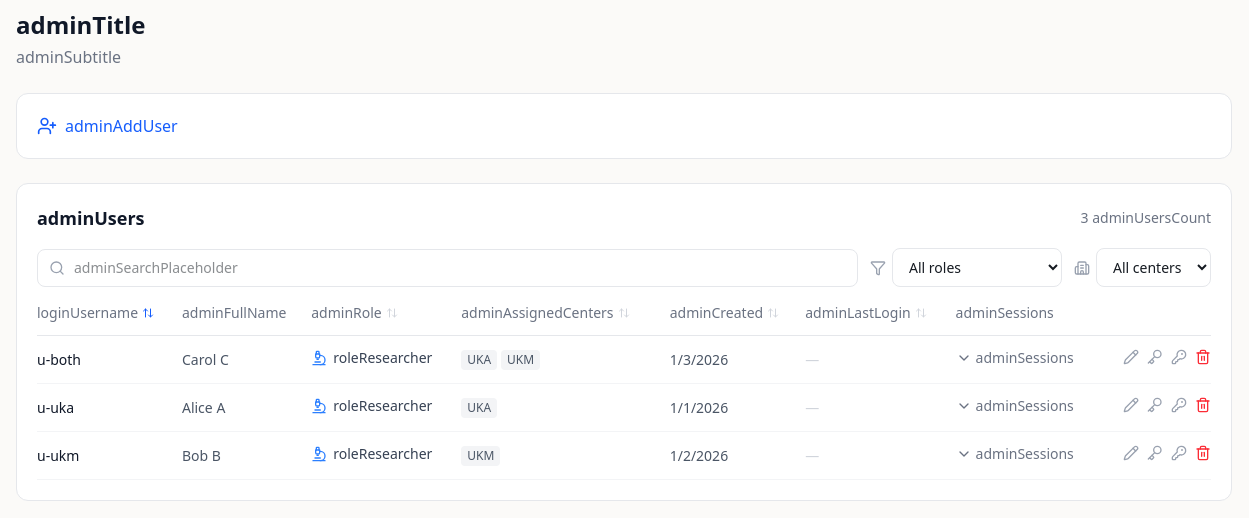
AdminPage center filter — locked-to-6-sites roster (VQA-01 / D-09) › narrows the user table to only users belonging to the selected center
Expected: the text "u-uka" is shown, [37,384,182,432]
Expected: the text "u-ukm" is shown, [37,432,182,480]
// Narrow to org-uka — u-uka and u-both remain, u-ukm drops.
Select "UKA" in the dropdown with test id "admin-center-filter" at (1154, 268), box [1096,248,1211,287]
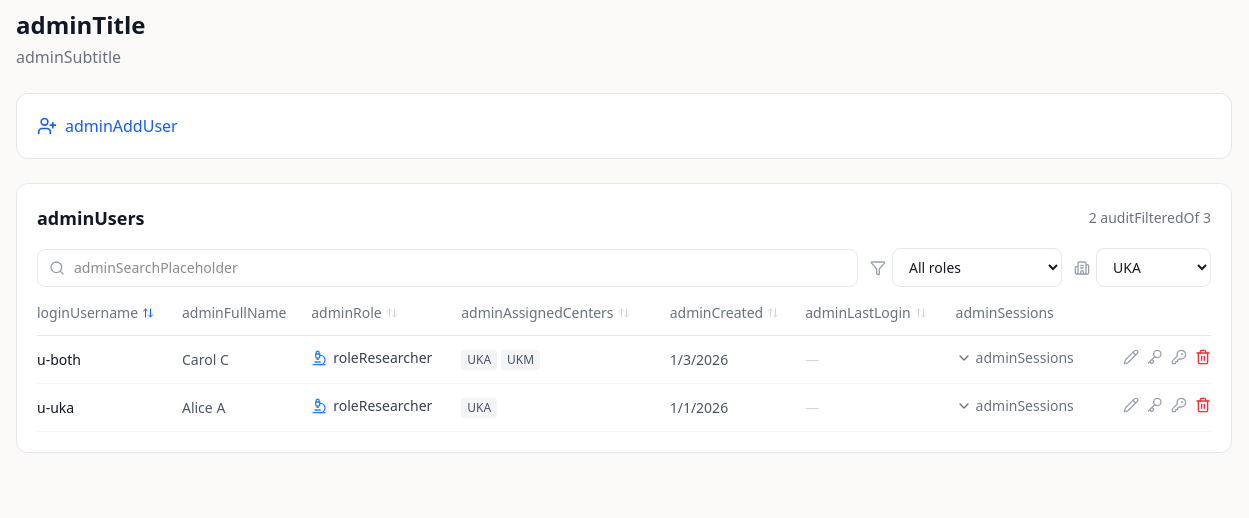
Expected: the text "u-uka" is shown, [37,384,182,432]
Expected: the text "u-ukm" is gone
// Narrow to org-ukm — u-ukm and u-both remain, u-uka drops.
Select "UKM" in the dropdown with test id "admin-center-filter" at (1154, 268), box [1096,248,1211,287]
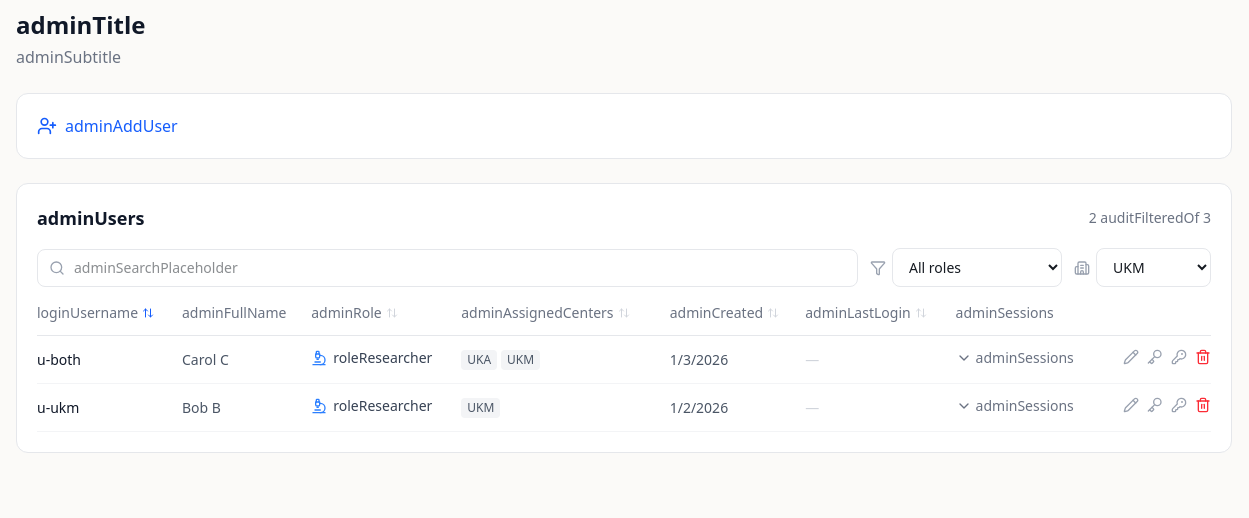
Expected: the text "u-both" is shown, [37,336,182,384]
Expected: the text "u-ukm" is shown, [37,384,182,432]
Expected: the text "u-uka" is gone
// Reset — all three visible again.
Select "All centers" in the dropdown with test id "admin-center-filter" at (1154, 268), box [1096,248,1211,287]
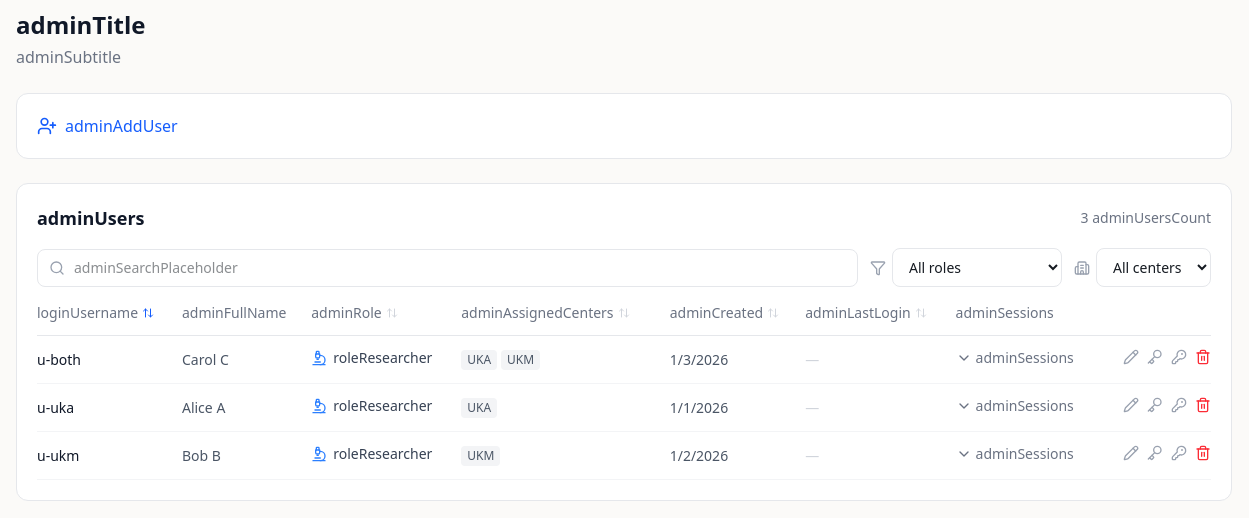
Expected: the text "u-both" is shown, [37,336,182,384]
Expected: the text "u-ukm" is shown, [37,432,182,480]
Expected: the text "u-uka" is shown, [37,384,182,432]
